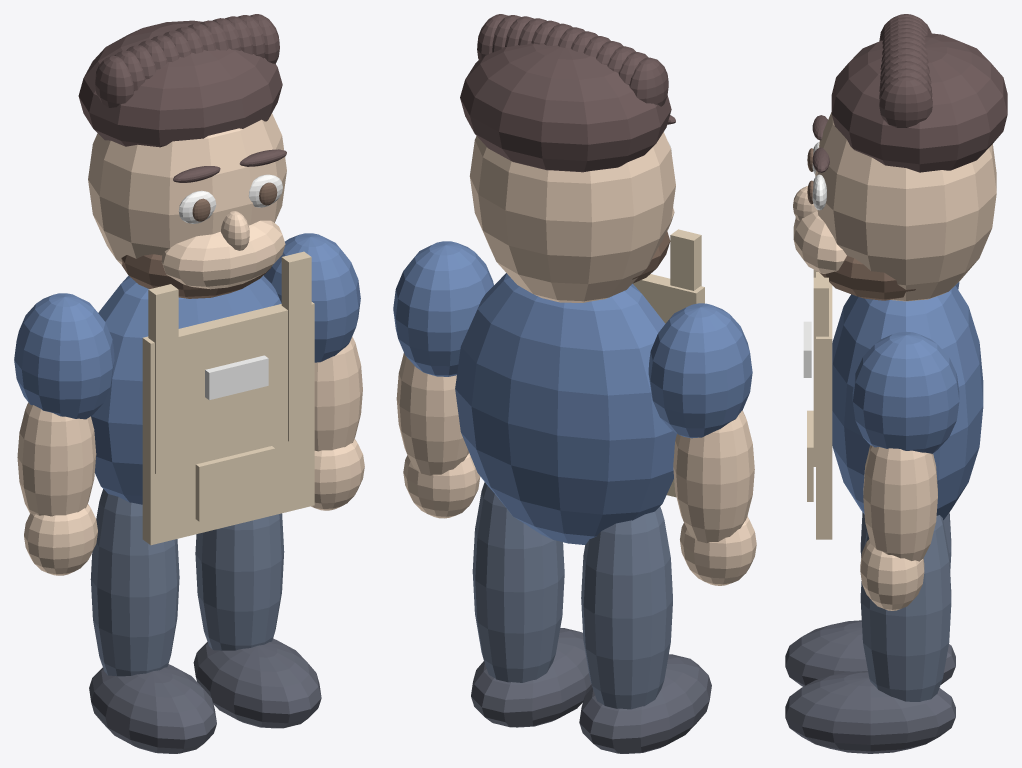
The model's file is burak.glb.
3 renders of one model, left to right at view 1: azimuth 30°, elevation 25°; view 2: azimuth 150°, elevation 25°; view 3: azimuth 270°, elevation 25°, orthographic. The views are drawn at different scales.
Visible parts, largest first — view 1: apron, head, hair, leg0, torso, leg1, sleeve0, shoe0, shoe1, arm0, sleeve1, chin (+13 smaller); view 2: torso, head, hair, leg0, leg1, sleeve0, sleeve1, arm0, shoe0, shoe1, arm1, hand0 (+5 smaller); view 3: head, hair, torso, sleeve1, shoe1, leg1, arm1, shoe0, apron, hand1, hair12, chin (+9 smaller).
Part boxes in pixels (x1,y1,x2,y2): apron: [142, 302, 314, 545]; head: [88, 113, 286, 264]; hair: [78, 20, 282, 147]; leg0: [90, 489, 179, 676]; torso: [91, 275, 281, 504]; leg1: [195, 513, 284, 650]; sleeve0: [14, 293, 114, 419]; shoe0: [89, 664, 216, 753]; shoe1: [193, 638, 321, 728]; arm0: [17, 402, 96, 516]; sleeve1: [263, 233, 360, 362]; chin: [161, 220, 285, 289]; torso: [455, 273, 676, 544]; head: [469, 132, 675, 302]; hair: [460, 43, 671, 172]; leg0: [581, 506, 672, 709]; leg1: [472, 482, 564, 682]; sleeve0: [648, 303, 752, 438]; sleeve1: [393, 241, 493, 376]; arm0: [673, 410, 754, 543]; shoe0: [579, 654, 711, 753]; shoe1: [471, 628, 592, 727]; arm1: [396, 353, 468, 475]; hand0: [680, 516, 756, 585]; head: [815, 112, 996, 301]; hair: [831, 33, 1007, 172]; torso: [832, 285, 983, 519]; sleeve1: [852, 331, 959, 453]; shoe1: [785, 671, 955, 753]; leg1: [860, 515, 951, 701]; arm1: [863, 445, 937, 561]; shoe0: [785, 620, 955, 686]; apron: [816, 272, 832, 539]; hand1: [860, 539, 924, 610]; hair12: [879, 76, 932, 127]; chin: [793, 211, 846, 273].
Size of the model in its own units: 1.41 by 2.76 by 0.8137.
